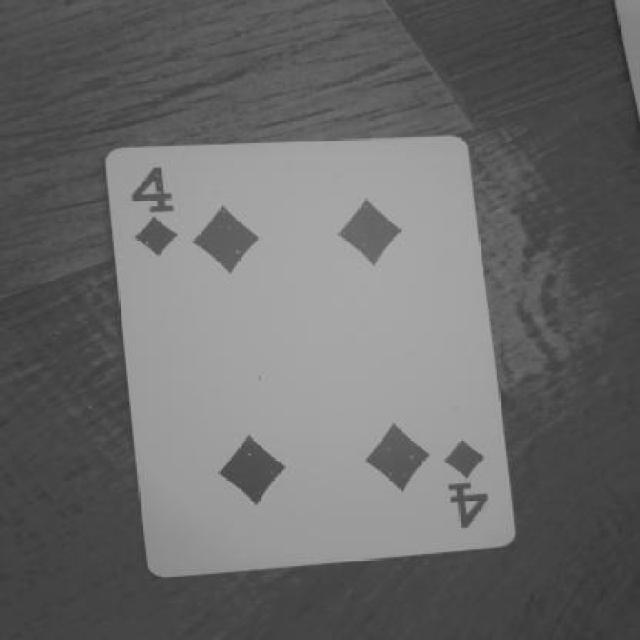4D: (426, 422, 520, 536), (122, 160, 193, 268)
